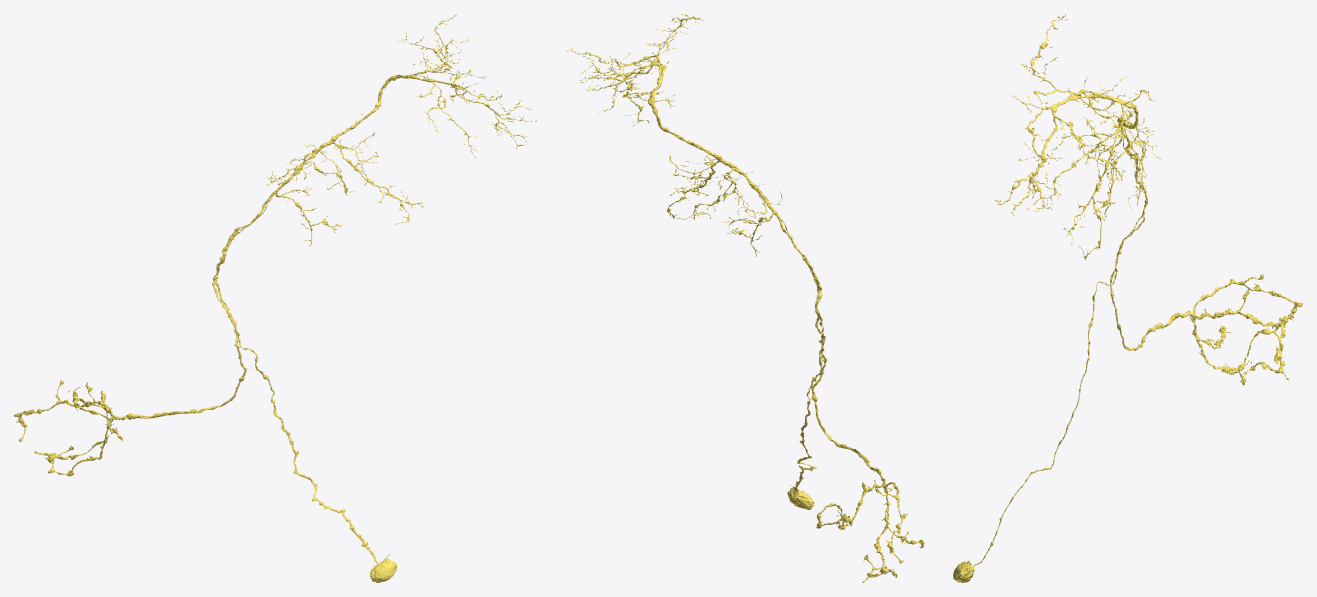
File: VFB_fw013744.glb
3 views of the same model, side by side, from view 1: azimuth 30°, elevation 25°; view 2: azimuth 150°, elevation 25°; view 3: azimuth 270°, elevation 25° (orthographic). The views are drawn at different scales.
Visible parts, largest first — view 1: VFB_fw013744; view 2: VFB_fw013744; view 3: VFB_fw013744.
Part boxes in pixels (<box>): VFB_fw013744: <box>14,14,536,582</box>; VFB_fw013744: <box>566,14,924,582</box>; VFB_fw013744: <box>953,14,1302,582</box>.
Size of the model in its own units: 0.0908 by 0.1055 by 0.0551.
